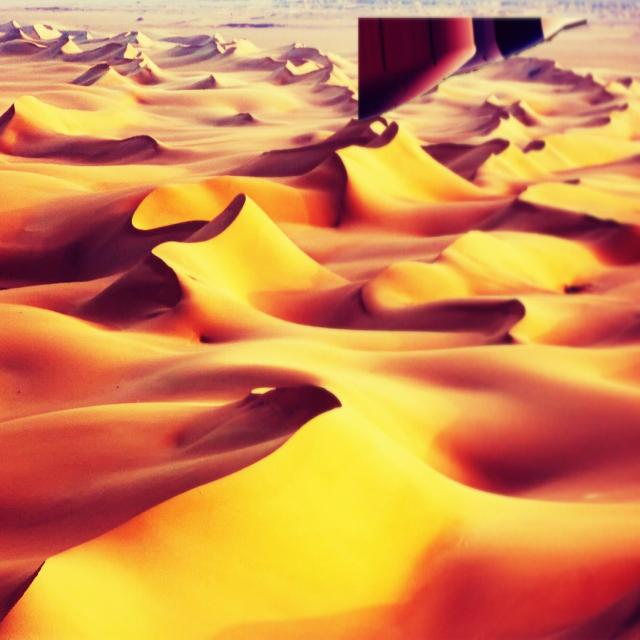airplane: (358, 16, 588, 126)
